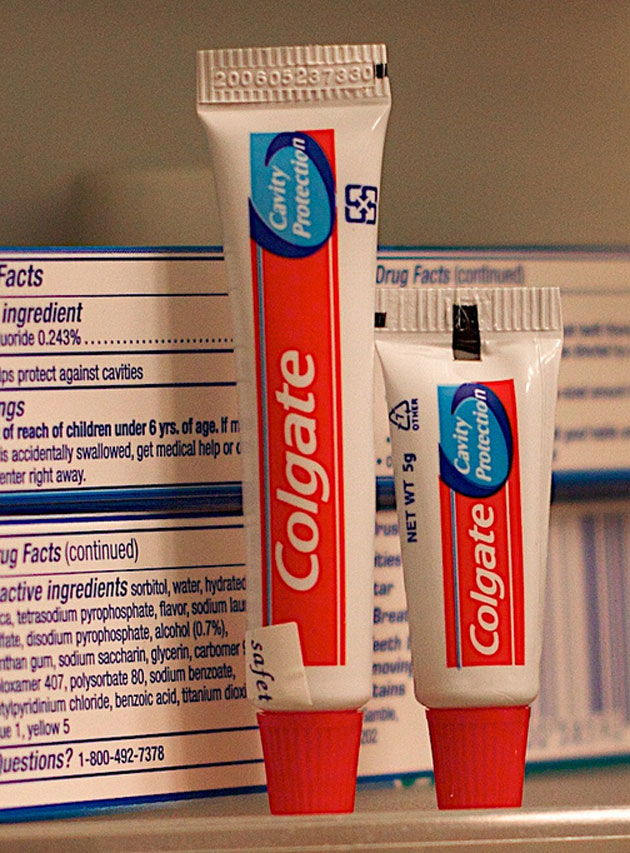Nonrec_Plastic: (186, 38, 394, 814), (356, 249, 556, 823)
